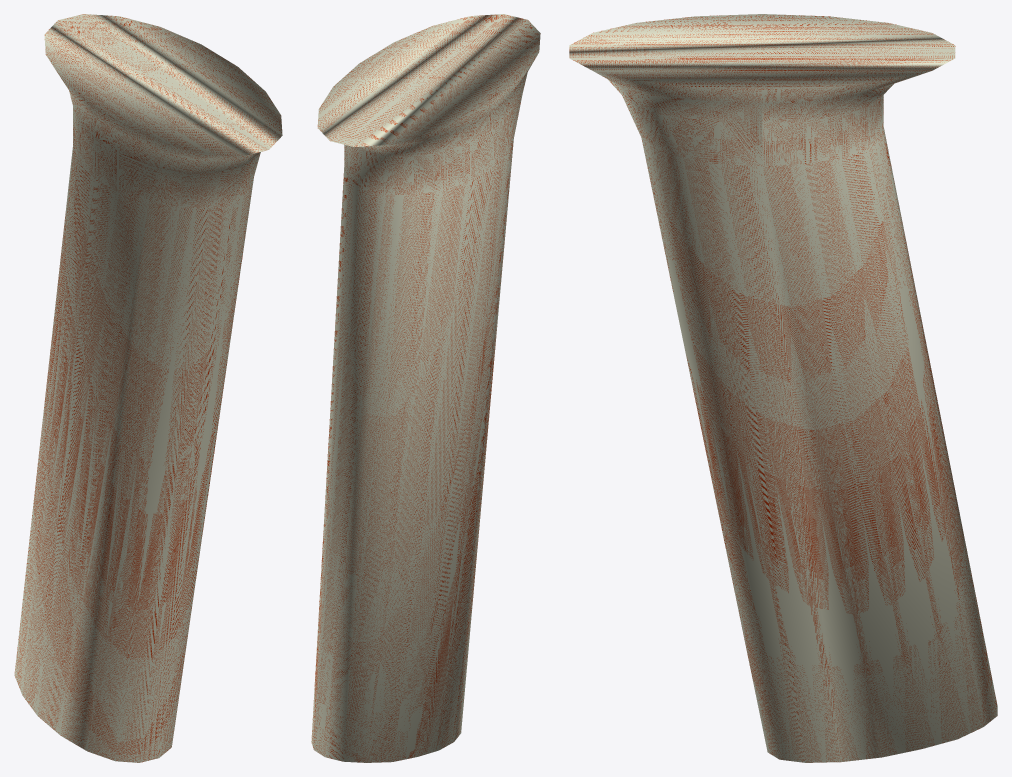
File: original-3.obj
3 renders of one model, left to right at view 1: azimuth 30°, elevation 25°; view 2: azimuth 150°, elevation 25°; view 3: azimuth 270°, elevation 25°, orthographic. The views are drawn at different scales.
Parts seen in each view (by area): view 1: mesh1/mesh1-geometry#mesh1-geometry; view 2: mesh1/mesh1-geometry#mesh1-geometry; view 3: mesh1/mesh1-geometry#mesh1-geometry.
Part boxes in pixels (<box>): mesh1/mesh1-geometry#mesh1-geometry: <box>14,14,282,762</box>; mesh1/mesh1-geometry#mesh1-geometry: <box>311,14,540,762</box>; mesh1/mesh1-geometry#mesh1-geometry: <box>569,14,997,762</box>.
Size of the model in its own units: 0.0694 by 0.2996 by 0.1657.
